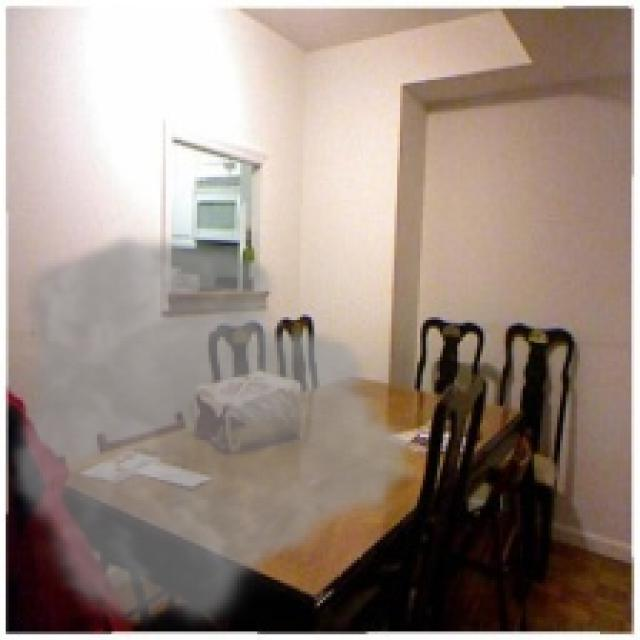smoke: (6, 229, 426, 637)
